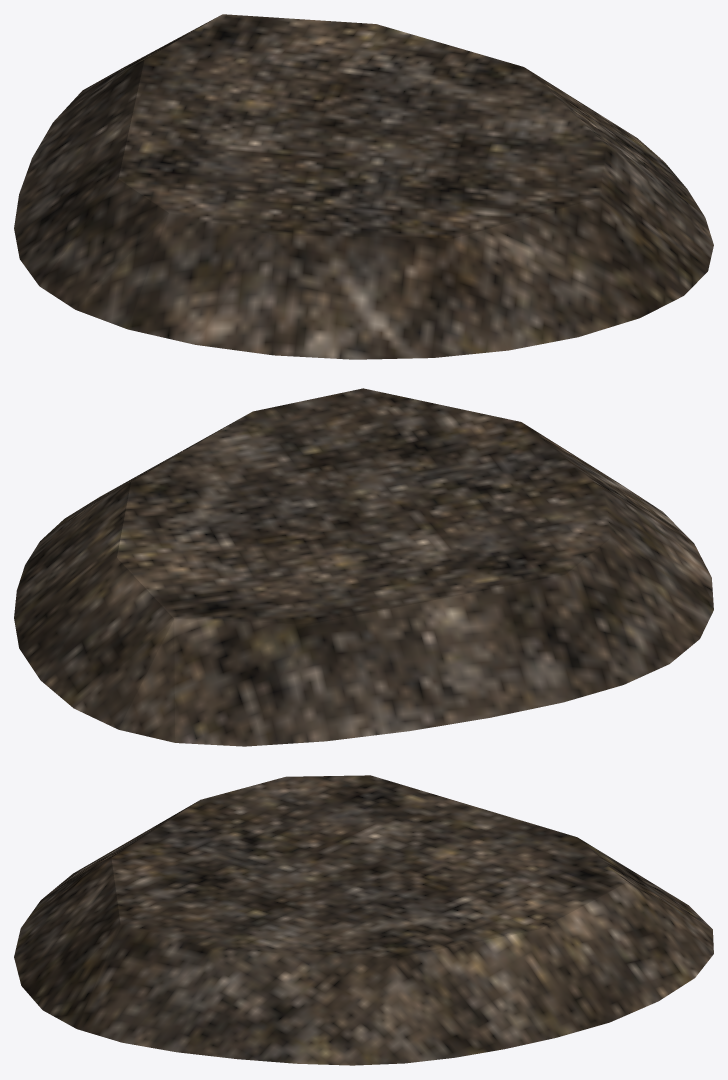
The model's file is SM_TI_Slab_3.fbx.
3 renders of one model, top to bottom at view 1: azimuth 30°, elevation 25°; view 2: azimuth 150°, elevation 25°; view 3: azimuth 270°, elevation 25°, orthographic. The views are drawn at different scales.
Parts seen in each view (by area): view 1: SM_TI_Slab_3; view 2: SM_TI_Slab_3; view 3: SM_TI_Slab_3.
Part boxes in pixels (left/top/right/bottom): SM_TI_Slab_3: left=14, top=14, right=713, bottom=359; SM_TI_Slab_3: left=14, top=388, right=713, bottom=746; SM_TI_Slab_3: left=14, top=775, right=713, bottom=1065.
Bounding box in the file's own units: 2.2 × 2.49 × 0.2669.
